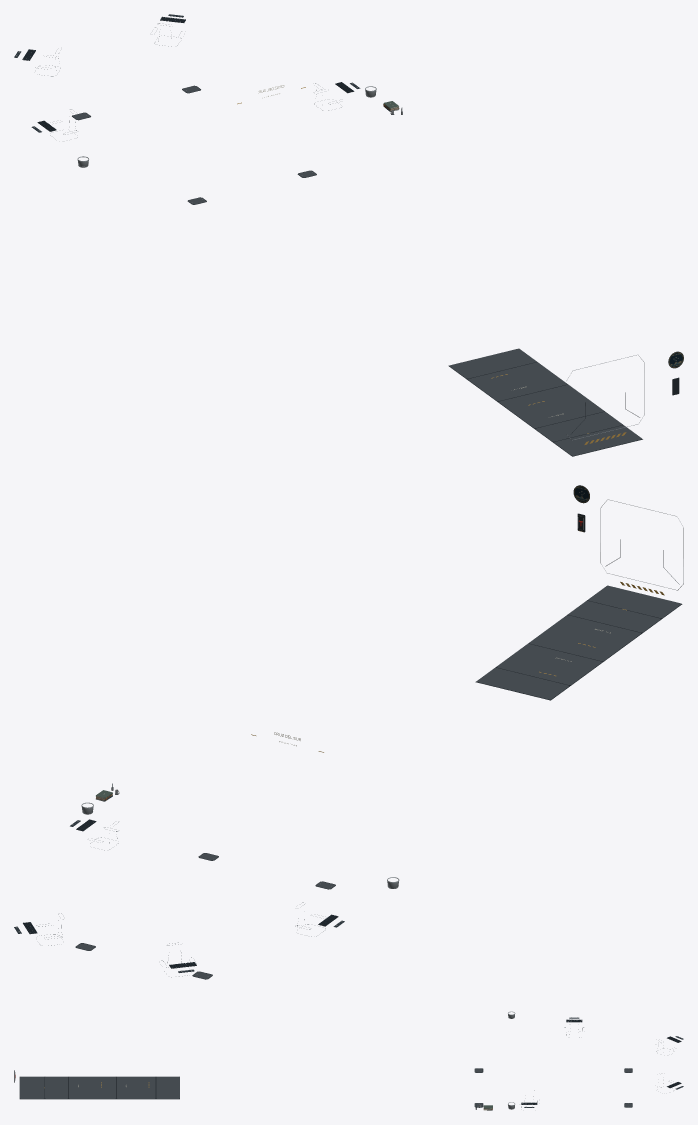
The model's file is cruz-del-sur-reference-details.glb.
The picture shows the model from 3 angles, top to bottom: view 1: azimuth 30°, elevation 25°; view 2: azimuth 150°, elevation 25°; view 3: azimuth 270°, elevation 25°; orthographic projection. The views are drawn at different scales.
Parts seen in each view (by area): view 1: REFINED_arrival_static_CDS DETAIL_Graphite deck - restrained; view 2: REFINED_arrival_static_CDS DETAIL_Graphite deck - restrained; view 3: REFINED_arrival_static_CDS DETAIL_Graphite deck - restrained, REFINED_arrival_static_CDS DETAIL_Recesses and gaskets.
Boxes of the visible parts, left/top/right/bottom form: REFINED_arrival_static_CDS DETAIL_Graphite deck - restrained: left=449, top=348, right=641, bottom=455; REFINED_arrival_static_CDS DETAIL_Graphite deck - restrained: left=476, top=585, right=680, bottom=699; REFINED_arrival_static_CDS DETAIL_Graphite deck - restrained: left=20, top=1076, right=179, bottom=1098; REFINED_arrival_static_CDS DETAIL_Recesses and gaskets: left=19, top=1076, right=179, bottom=1099.
Size of the model in its own units: 8.45 by 3.07 by 25.31.
Materials: 22 (2 with a texture image).
